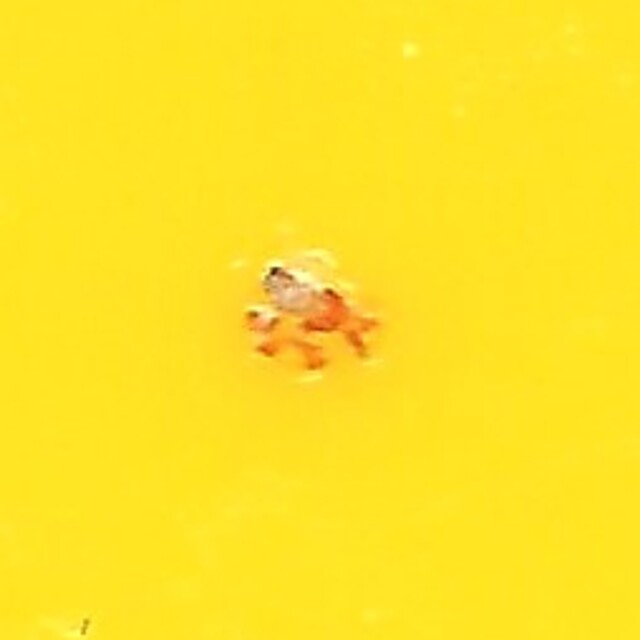Hemiptera: (252, 264, 388, 376)
